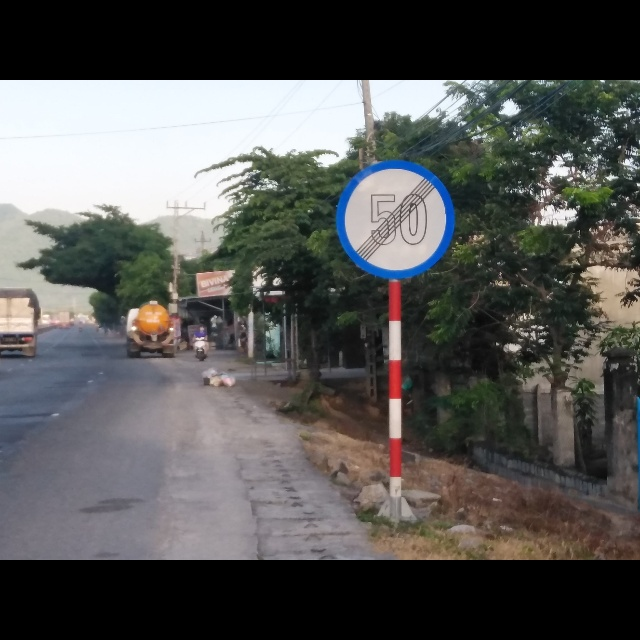Hết hạn chế tốc độ tối đa 50km/h: (333, 159, 456, 281)
